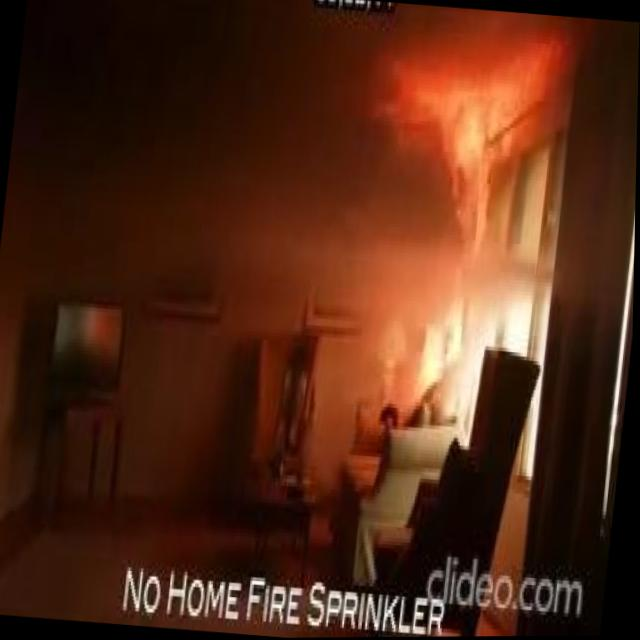fire: (385, 58, 491, 227), (483, 54, 545, 164), (442, 293, 468, 373), (419, 316, 448, 380)
